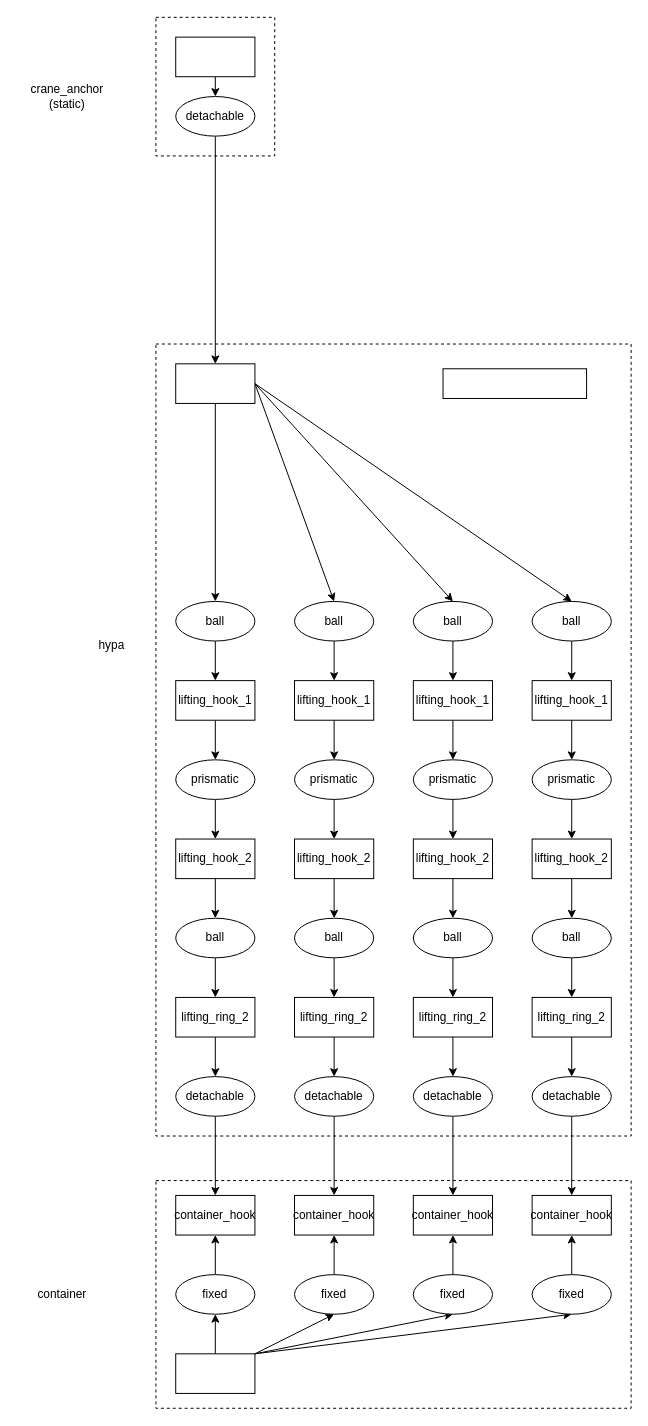
The diagram is 648 pixels wide and 1426 high, and some of its shapes have lost their labels. Each missing label, with the box of its shape:
container_base: (175, 1353, 255, 1393)
crane_hook: (175, 36, 255, 77)
hypa_base: (175, 363, 255, 403)
init_container_top_center: (442, 368, 587, 398)
